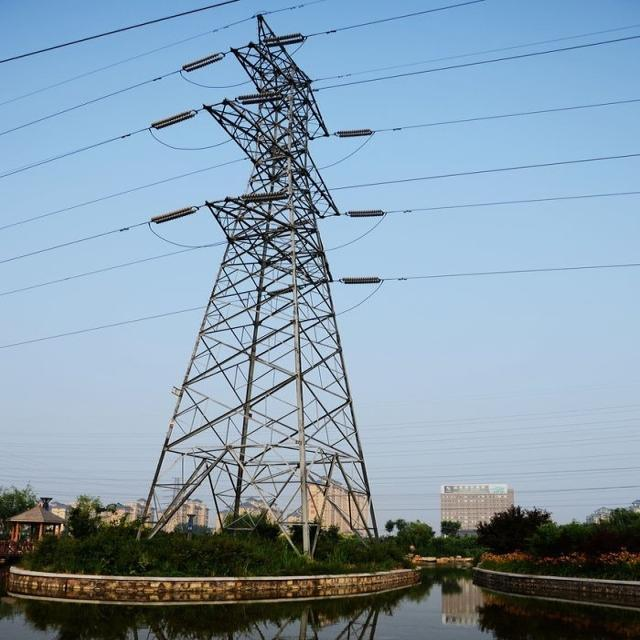non-critical vegetation: (134, 14, 383, 538)
